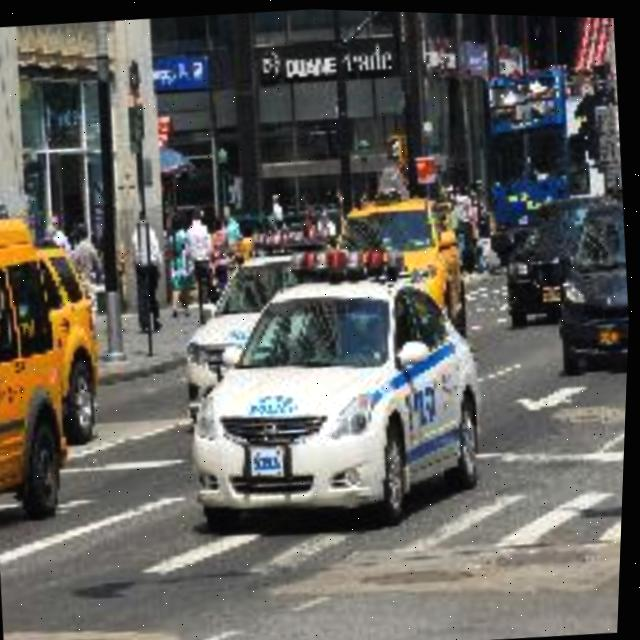emergency: (175, 240, 498, 542), (174, 238, 361, 422)
